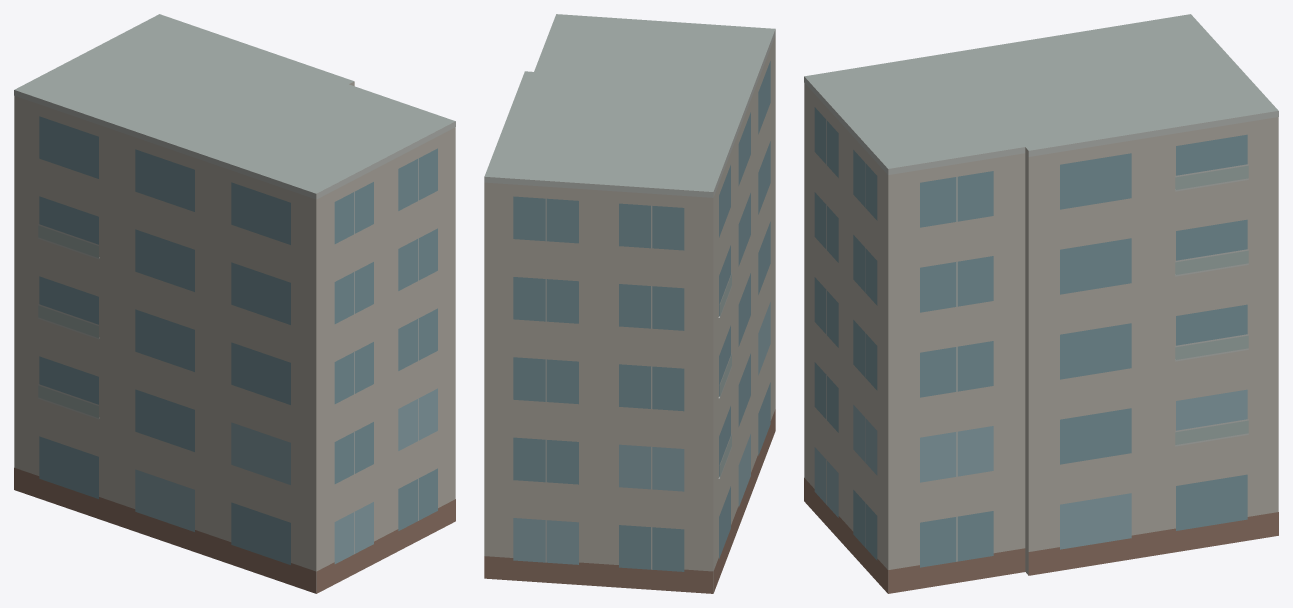
The model's file is survey-upis-32971641.glb.
The picture shows the model from 3 angles, left to right: view 1: azimuth 30°, elevation 25°; view 2: azimuth 150°, elevation 25°; view 3: azimuth 270°, elevation 25°; orthographic projection. The views are drawn at different scales.
Visible parts, largest first — view 1: survey-upis-32971641.tmp; view 2: survey-upis-32971641.tmp; view 3: survey-upis-32971641.tmp.
Boxes of the visible parts, box(x1,y1,x2,y2) form: survey-upis-32971641.tmp: box(14, 14, 455, 593); survey-upis-32971641.tmp: box(484, 14, 775, 593); survey-upis-32971641.tmp: box(804, 14, 1278, 593).
Size of the model in its own units: 13.15 by 16.8 by 17.02.
